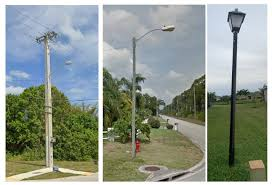light_pole: (36, 29, 61, 170), (228, 13, 241, 172), (128, 33, 141, 164)
